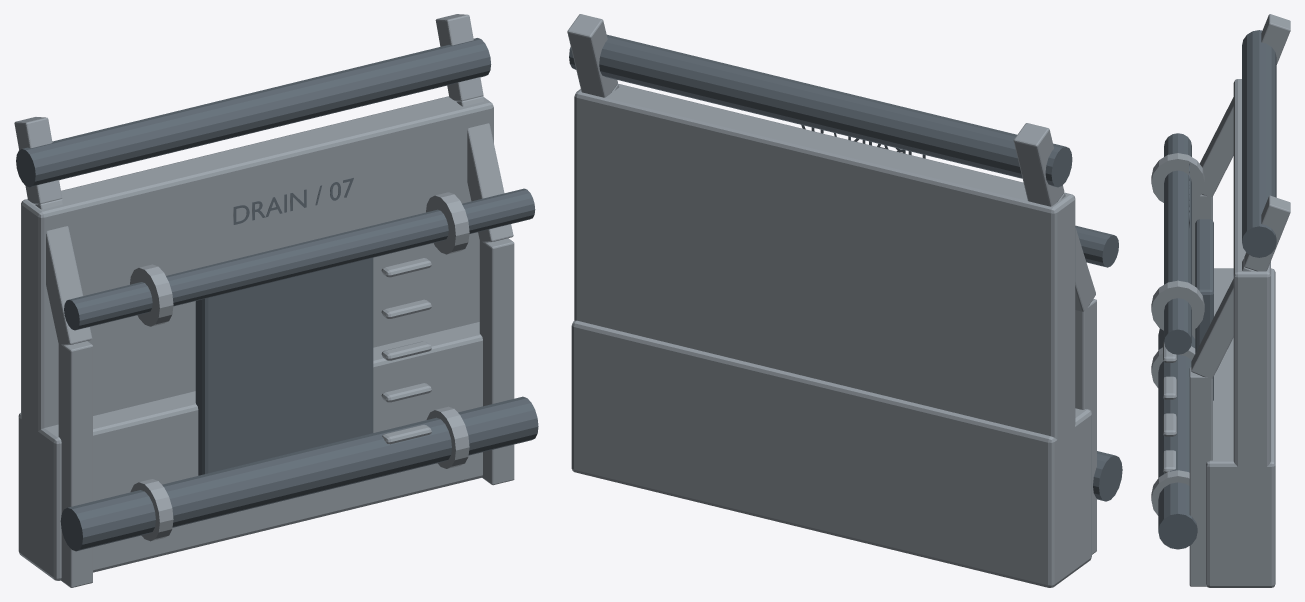
Rendered from 4_WallB.fbx.
3 views of the same model, side by side, from view 1: azimuth 30°, elevation 25°; view 2: azimuth 150°, elevation 25°; view 3: azimuth 270°, elevation 25° (orthographic). The views are drawn at different scales.
Visible parts, largest first — view 1: Body; view 2: Body; view 3: Body.
Part boxes in pixels (x1,y1,x2,y2): Body: [14, 14, 538, 587]; Body: [567, 14, 1122, 587]; Body: [1151, 14, 1290, 587].
Bounding box in the file's own units: 4 × 3.63 × 1.2.
